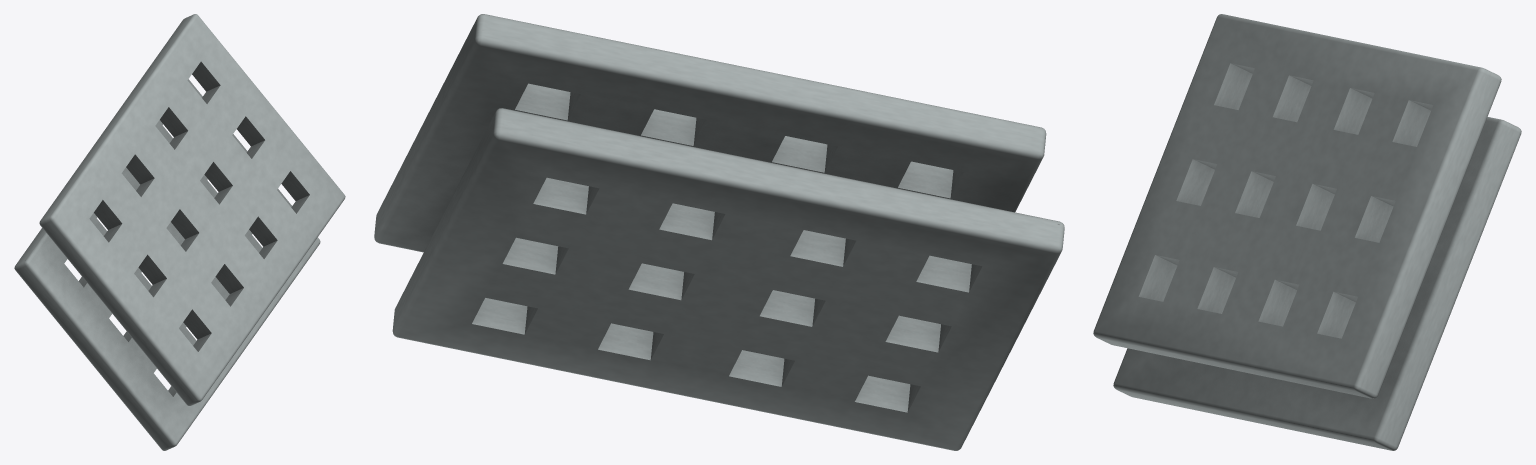
The picture shows the model from 3 angles, left to right: view 1: azimuth 30°, elevation 25°; view 2: azimuth 150°, elevation 25°; view 3: azimuth 270°, elevation 25°; orthographic projection. The views are drawn at different scales.
Parts seen in each view (by area): view 1: Perforated alloy sheet; view 2: Perforated alloy sheet; view 3: Perforated alloy sheet.
Part boxes in pixels (<box>): Perforated alloy sheet: <box>14,14,345,450</box>; Perforated alloy sheet: <box>374,14,1064,450</box>; Perforated alloy sheet: <box>1093,14,1521,450</box>.
Size of the model in its own units: 1.38 by 1.11 by 0.9918.
Materials: 1 (1 with a texture image).
